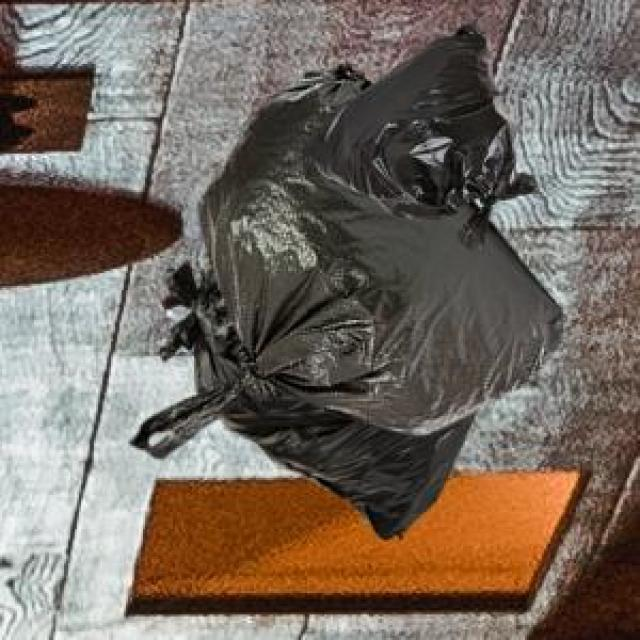Trashbag: (193, 194, 563, 442), (320, 32, 520, 214)
